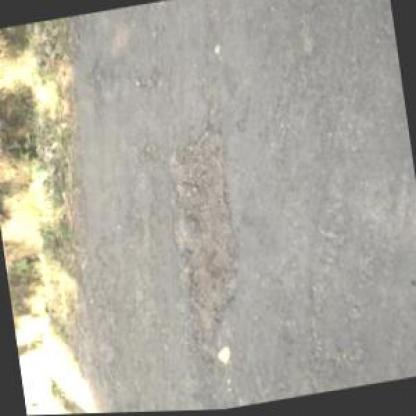pothole: (158, 121, 259, 368), (86, 58, 108, 116)
